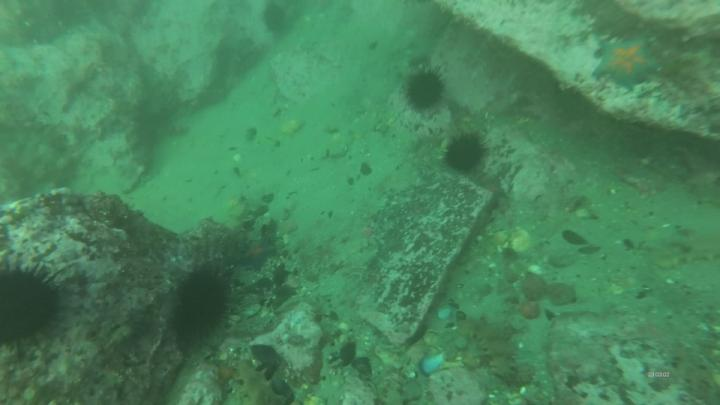echinus: (3, 270, 57, 348), (179, 270, 229, 345), (446, 133, 485, 173), (408, 73, 446, 110)
holothurian: (459, 323, 520, 380), (648, 241, 720, 269)
starfish: (595, 38, 658, 85), (243, 239, 275, 268)
